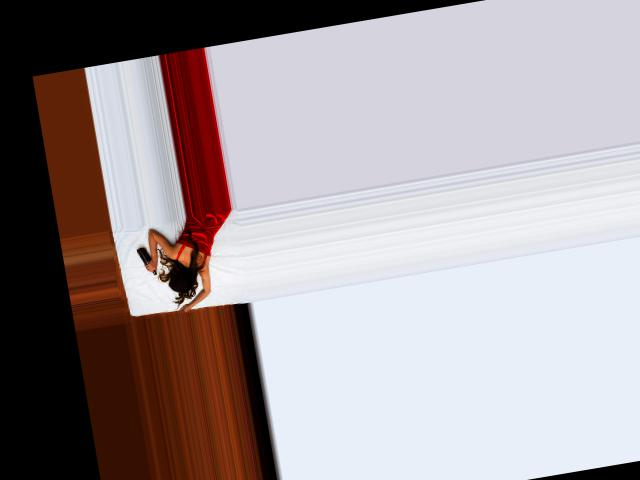beer: (135, 245, 157, 277)
